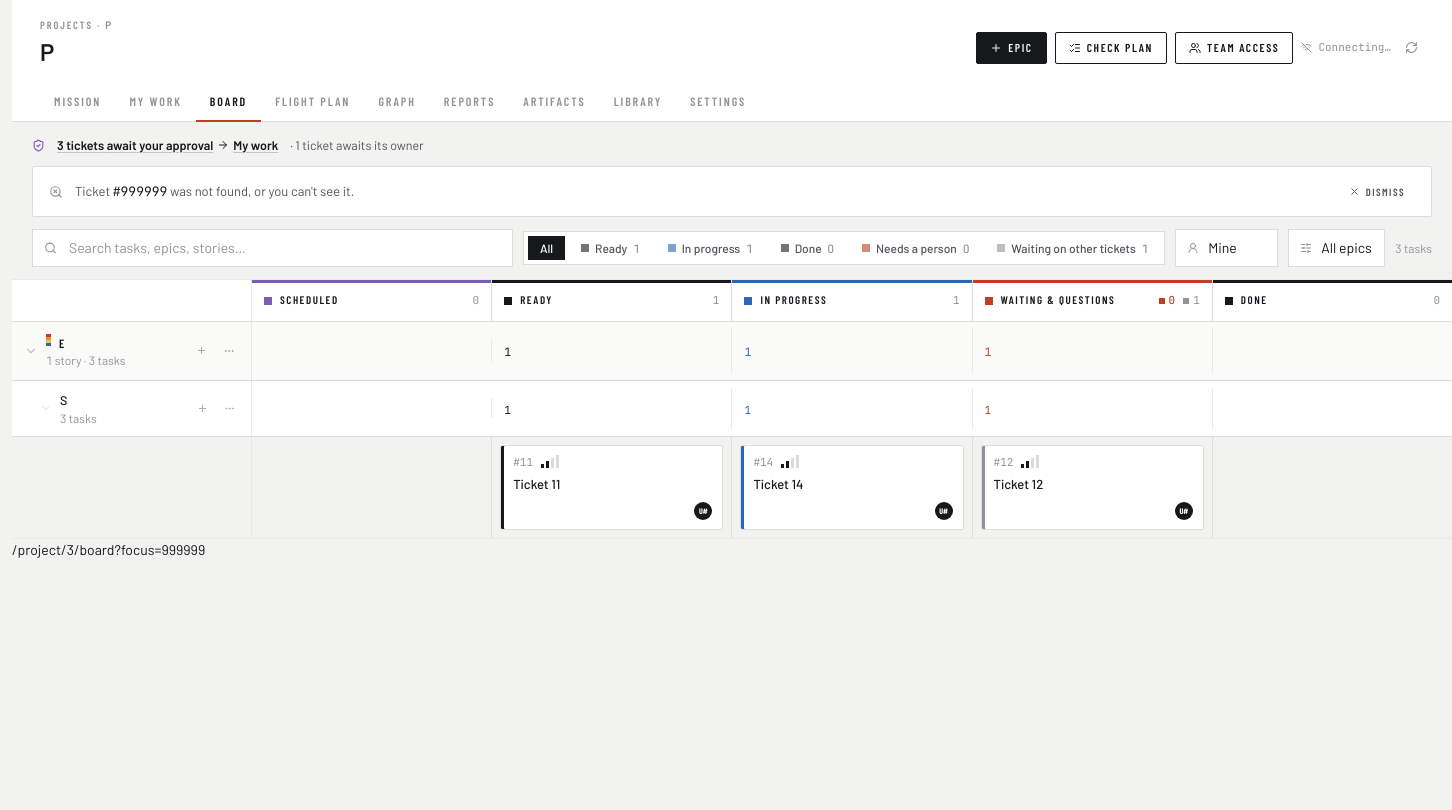
it: ?focus= naming a ticket that is not here › says so when the ticket does not exist, and Dismiss clears focus
Expected: the message shows "Ticket #999999 was not found", [32,166,1432,217]
Click the button "Dismiss" at (1377, 192), box [1339,179,1415,204]
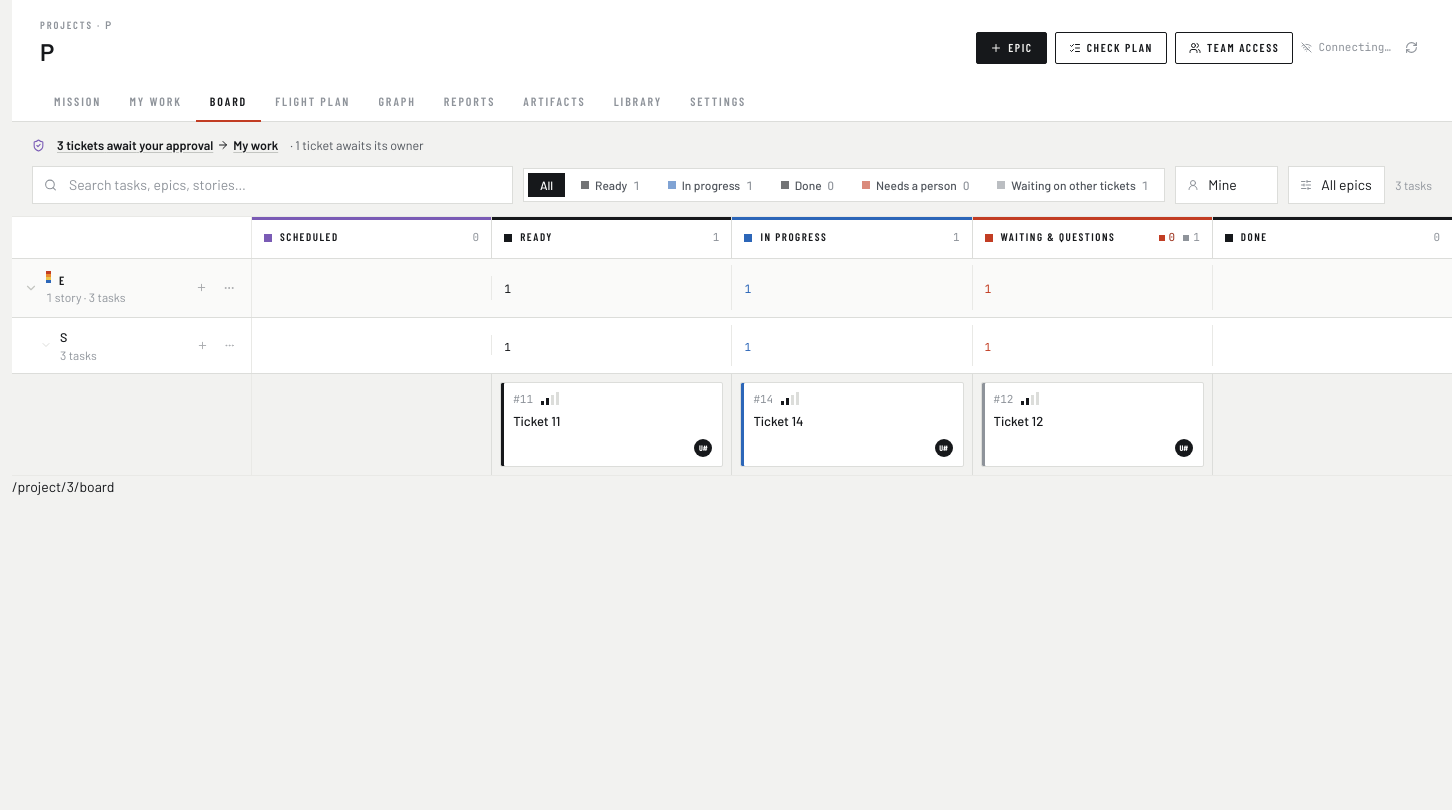
Now the text with test id "url" reads "/project/3/board", box [12,478,114,495]
Now the text "was not found" is gone
